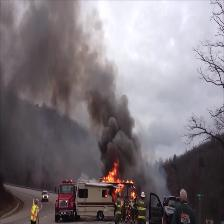fire: (108, 163, 118, 182)
smoke: (26, 9, 76, 89), (80, 61, 112, 117), (103, 120, 133, 162), (131, 165, 162, 192)
